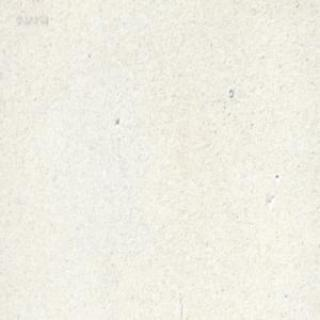Washertrack_idkeyframe: (227, 85, 233, 96)
